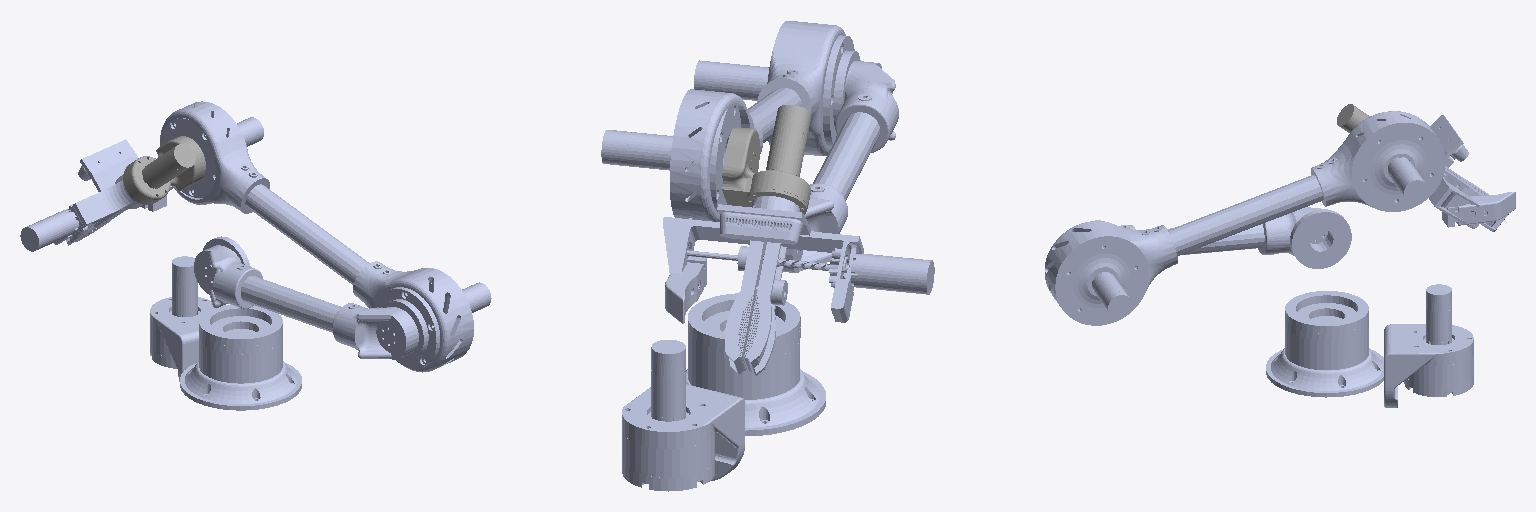
URDF robot description (urdf_humble_test):
<?xml version="1.0"?>
<!-- This URDF was automatically created by SolidWorks to URDF Exporter! Originally created by Stephen Brawner (brawner@gmail.com) 
     Commit Version 1.6.0-4-g7f85cfe  Build Version 1.6.7995.38578
     For more information, please see http//wiki.ros.org/sw_urdf_exporter -->
<robot
  name="urdf_humble_test">
  <link name="world"/>
    <joint name="base_joint" type="fixed">
       <parent link="world"/>
       <child link="base_link"/>
       <origin rpy="0 0 0" xyz="0.0 0.0 -0.17"/>
    </joint>
  <link
    name="base_link">
    <inertial>
      <origin
        xyz="-4.743837915544E-07 2.08978815363636E-07 0.0398691291100305"
        rpy="0 0 0" />
      <mass
        value="1.26158792714375" />
      <inertia
        ixx="0.00175614754470773"
        ixy="5.03614641481078E-10"
        ixz="-5.92029157039739E-09"
        iyy="0.00175614401963759"
        iyz="4.98996166764941E-09"
        izz="0.00323785623040002" />
    </inertial>
    <visual>
      <origin
        xyz="0 0 0"
        rpy="0 0 0" />
      <geometry>
        <mesh
          filename="package://urdf_humble_test/meshes/base_link.STL" />
      </geometry>
      <material
        name="">
        <color
          rgba="0.792156862745098 0.819607843137255 0.933333333333333 1" />
      </material>
    </visual>
    <collision>
      <origin
        xyz="0 0 0"
        rpy="0 0 0" />
      <geometry>
        <mesh
          filename="package://urdf_humble_test/meshes/base_link.STL" />
      </geometry>
    </collision>
  </link>
  <link
    name="link_1">
    <inertial>
      <origin
        xyz="0.0149258535370633 0.00446067865895465 0.168244863347586"
        rpy="0 0 0" />
      <mass
        value="1.58252995063954" />
      <inertia
        ixx="0.00367812068420756"
        ixy="0.000197509197407523"
        ixz="-0.000570515284281302"
        iyy="0.00307651113357738"
        iyz="-0.000170548507997464"
        izz="0.00243728557277392" />
    </inertial>
    <visual>
      <origin
        xyz="0 0 0"
        rpy="0 0 0" />
      <geometry>
        <mesh
          filename="package://urdf_humble_test/meshes/link_1.STL" />
      </geometry>
      <material
        name="">
        <color
          rgba="0.792156862745098 0.819607843137255 0.933333333333333 1" />
      </material>
    </visual>
    <collision>
      <origin
        xyz="0 0 0"
        rpy="0 0 0" />
      <geometry>
        <mesh
          filename="package://urdf_humble_test/meshes/link_1.STL" />
      </geometry>
    </collision>
  </link>
  <joint
    name="joint_1"
    type="revolute">
    <origin
      xyz="0 0 0"
      rpy="0 0 0" />
    <parent
      link="base_link" />
    <child
      link="link_1" />
    <axis
      xyz="0 0 1" />
    <limit
      lower="-3.14"
      upper="3.14"
      effort="0"
      velocity="0" />
  </joint>
  <link
    name="link_2">
    <inertial>
      <origin
        xyz="-0.174883405490475 0.0063906897068142 0.00767280405611698"
        rpy="0 0 0" />
      <mass
        value="0.563584848829252" />
      <inertia
        ixx="0.0003348452374415"
        ixy="1.8319476028181E-05"
        ixz="1.8068947894986E-11"
        iyy="0.000830253223733048"
        iyz="-1.23818201394263E-10"
        izz="0.000954579698356585" />
    </inertial>
    <visual>
      <origin
        xyz="0 0 0"
        rpy="0 0 0" />
      <geometry>
        <mesh
          filename="package://urdf_humble_test/meshes/link_2.STL" />
      </geometry>
      <material
        name="">
        <color
          rgba="0.792156862745098 0.819607843137255 0.933333333333333 1" />
      </material>
    </visual>
    <collision>
      <origin
        xyz="0 0 0"
        rpy="0 0 0" />
      <geometry>
        <mesh
          filename="package://urdf_humble_test/meshes/link_2.STL" />
      </geometry>
    </collision>
  </link>
  <joint
    name="joint_2"
    type="revolute">
    <origin
      xyz="-0.0589237850211093 -0.0176135617858798 0.196439999999998"
      rpy="1.5707963267949 0 1.86126299785025" />
    <parent
      link="link_1" />
    <child
      link="link_2" />
    <axis
      xyz="0 0 -1" />
    <limit
      lower="0"
      upper="3.14"
      effort="0"
      velocity="0" />
  </joint>
  <link
    name="link_3">
    <inertial>
      <origin
        xyz="-0.0839733696945522 0.0681689753013363 0.250999435788853"
        rpy="0 0 0" />
      <mass
        value="1.68158687764889" />
      <inertia
        ixx="0.00504091068027892"
        ixy="1.08101033069321E-05"
        ixz="4.35187158816721E-05"
        iyy="0.00353441502010039"
        iyz="-0.000395361521383045"
        izz="0.00218512259624916" />
    </inertial>
    <visual>
      <origin
        xyz="0 0 0"
        rpy="0 0 0" />
      <geometry>
        <mesh
          filename="package://urdf_humble_test/meshes/link_3.STL" />
      </geometry>
      <material
        name="">
        <color
          rgba="0.792156862745098 0.819607843137255 0.933333333333333 1" />
      </material>
    </visual>
    <collision>
      <origin
        xyz="0 0 0"
        rpy="0 0 0" />
      <geometry>
        <mesh
          filename="package://urdf_humble_test/meshes/link_3.STL" />
      </geometry>
    </collision>
  </link>
  <joint
    name="joint_3"
    type="revolute">
    <origin
      xyz="-0.349766547153894 0.0127813337346238 0"
      rpy="0 1.5707963267949 0" />
    <parent
      link="link_2" />
    <child
      link="link_3" />
    <axis
      xyz="1 0 0" />
    <limit
      lower="-6.28"
      upper="0"
      effort="0"
      velocity="0" />
  </joint>
  <link
    name="link_4">
    <inertial>
      <origin
        xyz="-0.00396437330824225 -0.00335656550649432 -0.0138879516826375"
        rpy="0 0 0" />
      <mass
        value="0.279984808714352" />
      <inertia
        ixx="0.000207044022235891"
        ixy="-8.08620638254851E-06"
        ixz="3.37117202629559E-05"
        iyy="0.000209746991677377"
        iyz="2.84970943544508E-05"
        izz="0.000171797316469416" />
    </inertial>
    <visual>
      <origin
        xyz="0 0 0"
        rpy="0 0 0" />
      <geometry>
        <mesh
          filename="package://urdf_humble_test/meshes/link_4.STL" />
      </geometry>
      <material
        name="">
        <color
          rgba="0.698039215686274 0.698039215686274 0.698039215686274 1" />
      </material>
    </visual>
    <collision>
      <origin
        xyz="0 0 0"
        rpy="0 0 0" />
      <geometry>
        <mesh
          filename="package://urdf_humble_test/meshes/link_4.STL" />
      </geometry>
    </collision>
  </link>
  <joint
    name="joint_4"
    type="revolute">
    <origin
      xyz="0 0.120795067593268 0.44489274173121"
      rpy="0 1.5707963267949 0" />
    <parent
      link="link_3" />
    <child
      link="link_4" />
    <axis
      xyz="0 0 1" />
    <limit
      lower="-1.0"
      upper="1.14"
      effort="0"
      velocity="0" />
  </joint>
  <link
    name="link_5">
    <inertial>
      <origin
        xyz="-0.0631049485055772 -0.0889500876207666 -0.117064136850921"
        rpy="0 0 0" />
      <mass
        value="0.445153140088307" />
      <inertia
        ixx="0.000274094446182845"
        ixy="-3.30773324406906E-05"
        ixz="0.000139501198705416"
        iyy="0.000858613379789018"
        iyz="-1.51340224951864E-05"
        izz="0.000835381695594303" />
    </inertial>
    <visual>
      <origin
        xyz="0 0 0"
        rpy="0 0 0" />
      <geometry>
        <mesh
          filename="package://urdf_humble_test/meshes/link_5.STL" />
      </geometry>
      <material
        name="">
        <color
          rgba="0.792156862745098 0.819607843137255 0.933333333333333 1" />
      </material>
    </visual>
    <collision>
      <origin
        xyz="0 0 0"
        rpy="0 0 0" />
      <geometry>
        <mesh
          filename="package://urdf_humble_test/meshes/link_5.STL" />
      </geometry>
    </collision>
  </link>
  <joint
    name="joint_5"
    type="revolute">
    <origin
      xyz="0.0475438829920029 0.0402600197471117 0.00549999999999323"
      rpy="0 1.28032965573954 0" />
    <parent
      link="link_4" />
    <child
      link="link_5" />
    <axis
      xyz="-0.218564021615717 -0.646228246342021 -0.731176327628897" />
    <limit
      lower="-3.14"
      upper="3.14"
      effort="0"
      velocity="0" />
  </joint>
<link name="fake_link">
  <inertial>
    <origin xyz="0 0 0" rpy="0 0 0"/>
    <mass value="0.001"/>
    <inertia 
      ixx="0.000001" 
      ixy="0" 
      ixz="0" 
      iyy="0.000001" 
      iyz="0" 
      izz="0.000001"/>
  </inertial>
</link>
  <joint name="fake_joint" type="revolute">
  <parent link="link_5"/>
  <child link="fake_link"/>
  <origin xyz="-0.06 -0.175 -0.2" rpy="-0.3 2.355 1.37"/>
  <axis xyz="0 0 1"/>  <!-- Yaw axis -->
  <limit lower="-3.14159" upper="3.14159" effort="0" velocity="0"/>
</joint>
  <link
    name="link_6">
    <inertial>
      <origin
        xyz="-1.53672751190825E-08 1.37734778027365E-08 -0.0458100316941801"
        rpy="0 0 0" />
      <mass
        value="0.0156031455954719" />
      <inertia
        ixx="1.35146476447596E-05"
        ixy="-2.96356967640183E-10"
        ixz="1.286858516959E-10"
        iyy="1.3514426991419E-05"
        iyz="-6.44123598726705E-11"
        izz="1.5061875624562E-06" />
    </inertial>
    <visual>
      <origin
        xyz="0 0 0"
        rpy="0 0 0" />
      <geometry>
        <mesh
          filename="package://urdf_humble_test/meshes/link_6.STL" />
      </geometry>
      <material
        name="">
        <color
          rgba="0.792156862745098 0.819607843137255 0.933333333333333 1" />
      </material>
    </visual>
    <collision>
      <origin
        xyz="0 0 0"
        rpy="0 0 0" />
      <geometry>
        <mesh
          filename="package://urdf_humble_test/meshes/link_6.STL" />
      </geometry>
    </collision>
  </link>
  <joint
    name="joint_6"
    type="revolute">
    <origin
      xyz="-0.0333725122311634 -0.114253153953276 -0.130847171307248"
      rpy="-3.14159265358979 1.28032965573961 3.14159265358979" />
    <parent
      link="link_5" />
    <child
      link="link_6" />
    <axis
      xyz="0 0 -1" />
    <limit
      lower="0"
      upper="10"
      effort="10"
      velocity="0" />
  </joint>
  <link
    name="link_7">
    <inertial>
      <origin
        xyz="7.65313491607467E-07 -3.74161015392893E-07 -0.0385405552273824"
        rpy="0 0 0" />
      <mass
        value="0.0157543709875629" />
      <inertia
        ixx="1.40004928900912E-05"
        ixy="-2.53486156184897E-10"
        ixz="-3.49587191185511E-10"
        iyy="1.40011200138394E-05"
        iyz="2.03591051059671E-10"
        izz="1.50794786871328E-06" />
    </inertial>
    <visual>
      <origin
        xyz="0 0 0"
        rpy="0 0 0" />
      <geometry>
        <mesh
          filename="package://urdf_humble_test/meshes/link_7.STL" />
      </geometry>
      <material
        name="">
        <color
          rgba="0.792156862745098 0.819607843137255 0.933333333333333 1" />
      </material>
    </visual>
    <collision>
      <origin
        xyz="0 0 0"
        rpy="0 0 0" />
      <geometry>
        <mesh
          filename="package://urdf_humble_test/meshes/link_7.STL" />
      </geometry>
    </collision>
  </link>
  <joint
    name="joint_7"
    type="revolute">
    <origin
      xyz="-0.0410222529877187 -0.136871142575247 -0.15643834277427"
      rpy="3.14159265358979 -1.28032965573961 0" />
    <parent
      link="link_5" />
    <child
      link="link_7" />
    <axis
      xyz="0 0 1" />
    <limit
      lower="-10"
      upper="0"
      effort="5"
      velocity="0" />
    <mimic
      joint="joint_6"
      multiplier="-1"
      offset="0" />
  </joint>
  <link
    name="link_8">
    <inertial>
      <origin
        xyz="0.0389414283701178 -0.0329757965501644 0.00477531130657782"
        rpy="0 0 0" />
      <mass
        value="0.0657970930356421" />
      <inertia
        ixx="4.25330956873951E-05"
        ixy="3.93690246189171E-05"
        ixz="-3.97125807063E-06"
        iyy="5.5687211021763E-05"
        iyz="3.36290131876431E-06"
        izz="9.53856903034168E-05" />
    </inertial>
    <visual>
      <origin
        xyz="0 0 0"
        rpy="0 0 0" />
      <geometry>
        <mesh
          filename="package://urdf_humble_test/meshes/link_8.STL" />
      </geometry>
      <material
        name="">
        <color
          rgba="0.792156862745098 0.819607843137255 0.933333333333333 1" />
      </material>
    </visual>
    <collision>
      <origin
        xyz="0 0 0"
        rpy="0 0 0" />
      <geometry>
        <mesh
          filename="package://urdf_humble_test/meshes/link_8.STL" />
      </geometry>
    </collision>
  </link>
  <joint
    name="joint_8"
    type="prismatic">
    <origin
      xyz="-0.0333725122311634 -0.114253153953276 -0.130847171307248"
      rpy="-3.14159265358979 1.28032965573961 3.14159265358979" />
    <parent
      link="link_5" />
    <child
      link="link_8" />
    <axis
      xyz="0 0 -1" />
    <limit
      lower="-0.042"
      upper="0"
      effort="10"
      velocity="0" />
    <mimic
      joint="joint_6"
      multiplier="-0.0042"
      offset="0" />
  </joint>
  <link
    name="link_9">
    <inertial>
      <origin
        xyz="-0.0128701655009559 0.0108981859411117 -0.0151891110782429"
        rpy="0 0 0" />
      <mass
        value="0.0599258931002066" />
      <inertia
        ixx="3.72880562711355E-05"
        ixy="3.42339778850729E-05"
        ixz="-2.90054522617449E-06"
        iyy="4.87264351315064E-05"
        iyz="2.45613272001958E-06"
        izz="8.37508902972254E-05" />
    </inertial>
    <visual>
      <origin
        xyz="0 0 0"
        rpy="0 0 0" />
      <geometry>
        <mesh
          filename="package://urdf_humble_test/meshes/link_9.STL" />
      </geometry>
      <material
        name="">
        <color
          rgba="0.792156862745098 0.819607843137255 0.933333333333333 1" />
      </material>
    </visual>
    <collision>
      <origin
        xyz="0 0 0"
        rpy="0 0 0" />
      <geometry>
        <mesh
          filename="package://urdf_humble_test/meshes/link_9.STL" />
      </geometry>
    </collision>
  </link>
  <joint
    name="joint_9"
    type="prismatic">
    <origin
      xyz="-0.0410222529877187 -0.136871142575247 -0.15643834277427"
      rpy="3.14159265358979 -1.28032965573961 0" />
    <parent
      link="link_5" />
    <child
      link="link_9" />
    <axis
      xyz="0 0 1" />
    <limit
      lower="-0.042"
      upper="0"
      effort="10"
      velocity="0" />
    <mimic
      joint="joint_6"
      multiplier="-0.0042"
      offset="0" />
  </joint>

  <!-- CAMERA OPTICAL FRAME ONLY (Camera is part of link_5 mesh) -->
  <link name="camera_link">
    <!-- Empty link for optical frame -->
  </link>
  <link name="camera_link_optical"></link>
  <joint name="camera_joint" type="fixed">
    <parent link="link_6"/> <!-- Camera is part of link_5 -->
    <child link="camera_link"/>
    <origin xyz="0.04 0.05 0.0" rpy="-1.57 0 -0.785"/> <!-- Position where camera is located in link_5 mesh -->
  </joint>
  <joint name="camera_optical_joint" type="fixed">
  <parent link="camera_link"/>
  <child link="camera_link_optical"/>
  <origin xyz="0 0 0" rpy="-1.5708 0 -1.5708"/>
</joint>
  
  <!-- ROS2 CONTROL CONFIGURATION -->
  
  <ros2_control name="GazeboSystem" type="system">
  <hardware>
    <plugin>gazebo_ros2_control/GazeboSystem</plugin>
  </hardware>
  <joint name="joint_1">
     <command_interface name="position"/>
     <state_interface name="position">
       <param name="initial_value">0.0</param>
      </state_interface>
      <state_interface name="velocity"/>
   </joint>
   
   <joint name="joint_2">
     <command_interface name="position"/>
     <state_interface name="position">
       <param name="initial_value">0.0</param>
      </state_interface>
      <state_interface name="velocity"/>
   </joint>
       
  <joint name="joint_3">
     <command_interface name="position"/>
     <state_interface name="position">
       <param name="initial_value">0.0</param>
      </state_interface>
      <state_interface name="velocity"/>
   </joint>
   
   <joint name="joint_4">
     <command_interface name="position"/>
     <state_interface name="position">
       <param name="initial_value">0.0</param>
      </state_interface>
      <state_interface name="velocity"/>
   </joint>
   
   <joint name="joint_5">
     <command_interface name="position"/>
     <state_interface name="position">
       <param name="initial_value">0.0</param>
      </state_interface>
      <state_interface name="velocity"/>
   </joint>
  <joint name="fake_joint">
     <command_interface name="position"/>
     <state_interface name="position">
       <param name="initial_value">0.0</param>
      </state_interface>
      <state_interface name="velocity"/>
   </joint>
   
   <joint name="joint_6">
     <command_interface name="position"/>
     <state_interface name="position">
       <param name="initial_value">0.0</param>
      </state_interface>
      <state_interface name="velocity"/>
   </joint>
   
   <joint name="joint_7">
     <!-- Remove command interface for mimic joint -->
     <state_interface name="position">
       <param name="initial_value">0.0</param>
     </state_interface>
     <param name="mimic">joint_6</param>
     <param name="multiplier">-1</param>
     <state_interface name="velocity"/>
   </joint>
   
   <joint name="joint_8">
     <!-- Remove command interface for mimic joint -->
     <state_interface name="position">
       <param name="initial_value">0.0</param>
     </state_interface>
     <param name="mimic">joint_6</param>
     <param name="multiplier">-0.01</param>
     <state_interface name="velocity"/>
   </joint>
   
   <joint name="joint_9">
     <!-- Remove command interface for mimic joint -->
     <state_interface name="position">
       <param name="initial_value">0.0</param>
     </state_interface>
     <param name="mimic">joint_6</param>
     <param name="multiplier">-0.01</param>
     <state_interface name="velocity"/>
   </joint>
</ros2_control>

<!-- GAZEBO PLUGINS -->

<gazebo>
    <plugin filename="libgazebo_ros2_control.so" name="gazebo_ros2_control">
<parameters>/home/devika/robo_ws/src/urdf_humble_test/config/controller_manager.yaml</parameters>
<controller_manager_node_name>controller_manager</controller_manager_node_name>
    <ros>
      <namespace>/</namespace>
    </ros>
    </plugin>
</gazebo>

<gazebo>
  <plugin name="joint_state_publisher" filename="libgazebo_ros_joint_state_publisher.so">
    <ros>
      <namespace>/</namespace>
    </ros>
  </plugin>
</gazebo>

<gazebo>
  <plugin name="joint_trajectory_controller" filename="libgazebo_ros_joint_pose_trajectory.so">
    <ros>
      <namespace>/</namespace>
    </ros>
    <update_rate>100</update_rate>
    <joints>
      <joint>joint_1</joint>
      <joint>joint_2</joint>
      <joint>joint_3</joint>
      <joint>joint_4</joint>
      <joint>joint_5</joint>
      <joint>fake_joint</joint>
      <joint>joint_6</joint>
      <!-- Do not include joint_7 here, it's a mimic joint -->
    </joints>
  </plugin>
</gazebo>

<!-- CAMERA GAZEBO CONFIGURATION -->
<gazebo reference="camera_link">
  <sensor name="camera" type="depth">
    <pose> 0 0 0 0 0 0 </pose> <!-- Camera position and orientation relative to link_5 -->
    <visualize>true</visualize>
    <update_rate>10</update_rate>
    <camera>
       <horizontal_fov>1.089</horizontal_fov>
       <image>
          <format>B8G8R8</format>
          <width>640</width>
          <height>480</height>
       </image>
       <clip>
          <near>0.05</near>
          <far>1</far>
       </clip>
     </camera>
    <plugin name="camera_controller" filename="libgazebo_ros_camera.so">
      <frame_name>camera_link_optical</frame_name>
      <min_depth>0.1</min_depth>
      <max_depth>10.0</max_depth>
    </plugin>
  </sensor>
</gazebo>

</robot>

--- Render facts (derived) ---
Views: 3 orthographic renders of the robot side by side, from view 1: azimuth 30°, elevation 25°; view 2: azimuth 150°, elevation 25°; view 3: azimuth 270°, elevation 25°.
Robot: urdf_humble_test — 14 links, 13 joints (8 revolute, 2 prismatic, 3 fixed); root link world; default pose: all joints at 0.
Links seen in each view (by area): view 1: link_3, link_2, base_link, link_5, link_1, link_4; view 2: link_3, link_1, link_5, base_link, link_2, link_4, link_9, link_8, link_7, link_6; view 3: link_3, base_link, link_1, link_2, link_5, link_7, link_8, link_4.
Link boxes in pixels (x1=…): link_3: x1=160, y1=101, x2=491, y2=372; link_2: x1=194, y1=236, x2=428, y2=360; base_link: x1=180, y1=304, x2=301, y2=410; link_5: x1=20, y1=139, x2=173, y2=251; link_1: x1=150, y1=256, x2=213, y2=381; link_4: x1=123, y1=136, x2=205, y2=204; link_3: x1=601, y1=21, x2=854, y2=221; link_1: x1=622, y1=340, x2=744, y2=491; link_5: x1=663, y1=196, x2=934, y2=322; base_link: x1=686, y1=293, x2=825, y2=435; link_2: x1=783, y1=50, x2=898, y2=272; link_4: x1=722, y1=105, x2=811, y2=214; link_9: x1=744, y1=242, x2=787, y2=375; link_8: x1=725, y1=240, x2=766, y2=374; link_7: x1=665, y1=256, x2=706, y2=323; link_6: x1=686, y1=246, x2=843, y2=287; link_3: x1=1045, y1=111, x2=1445, y2=325; base_link: x1=1266, y1=291, x2=1383, y2=397; link_1: x1=1384, y1=284, x2=1473, y2=407; link_2: x1=1095, y1=207, x2=1351, y2=268; link_5: x1=1429, y1=115, x2=1486, y2=228; link_7: x1=1442, y1=192, x2=1515, y2=227; link_8: x1=1443, y1=169, x2=1508, y2=231; link_4: x1=1337, y1=104, x2=1369, y2=132.
Size in the robot's own frame: 0.5291 by 0.6768 by 0.453 metres.
10 mesh visuals loaded from 10 distinct referenced files (10 binary STL).
